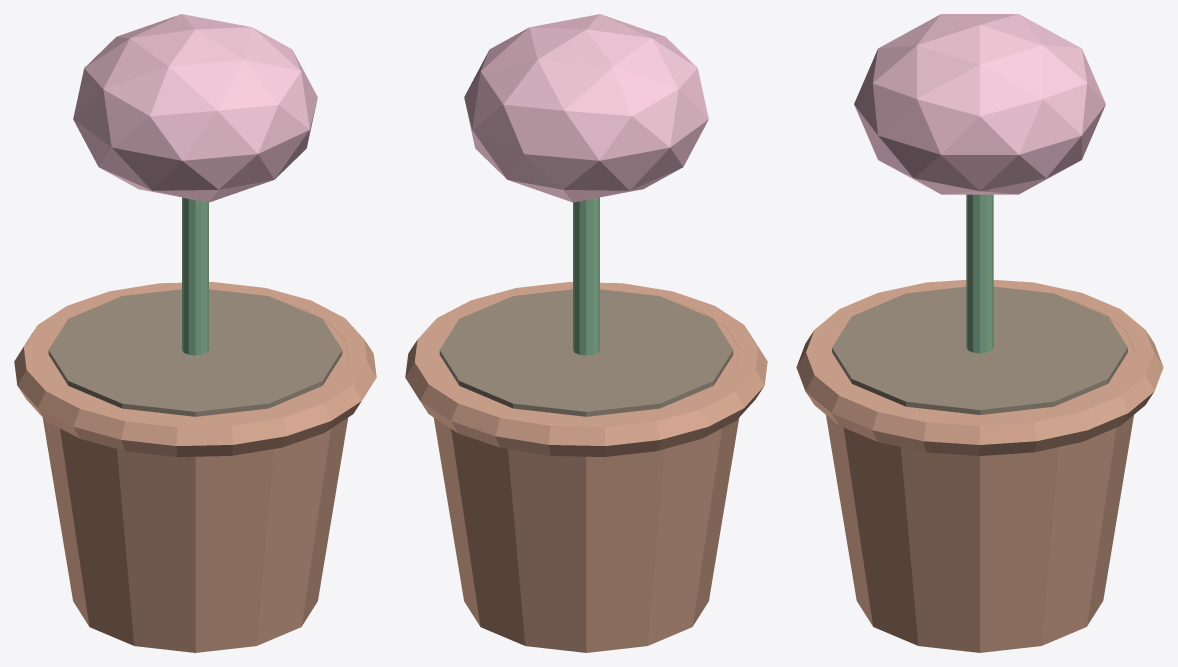
The model's file is flower_pot.glb.
3 renders of one model, left to right at view 1: azimuth 30°, elevation 25°; view 2: azimuth 150°, elevation 25°; view 3: azimuth 270°, elevation 25°, orthographic.
Parts seen in each view (by area): view 1: flower_pot_000, flower_pot_004, flower_pot_002, flower_pot_001, flower_pot_003; view 2: flower_pot_000, flower_pot_004, flower_pot_002, flower_pot_001, flower_pot_003; view 3: flower_pot_000, flower_pot_004, flower_pot_002, flower_pot_001, flower_pot_003.
Part boxes in pixels (x1,y1,x2,y2): flower_pot_000: [43, 303, 348, 652]; flower_pot_004: [73, 14, 317, 202]; flower_pot_002: [48, 289, 342, 416]; flower_pot_001: [14, 282, 376, 456]; flower_pot_003: [182, 197, 208, 355]; flower_pot_000: [433, 303, 738, 652]; flower_pot_004: [464, 14, 708, 202]; flower_pot_002: [439, 289, 733, 416]; flower_pot_001: [405, 282, 767, 456]; flower_pot_003: [573, 197, 599, 355]; flower_pot_000: [825, 299, 1134, 652]; flower_pot_004: [854, 14, 1105, 194]; flower_pot_002: [832, 286, 1127, 414]; flower_pot_001: [796, 280, 1163, 455]; flower_pot_003: [966, 194, 993, 353].
Size of the model in its own units: 0.67 by 1.16 by 0.67.
